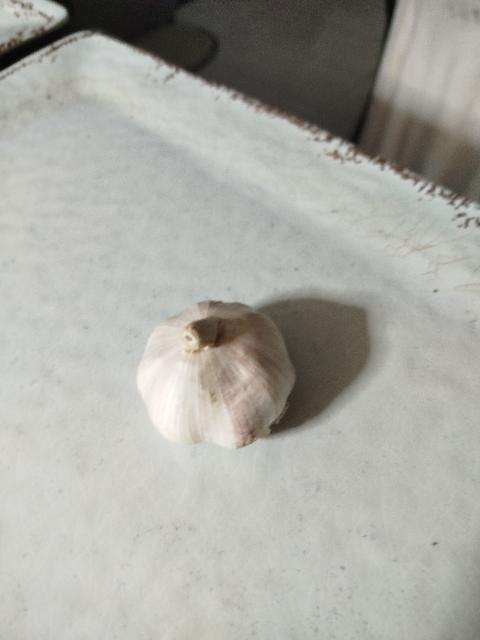garlic: (136, 299, 296, 449)
